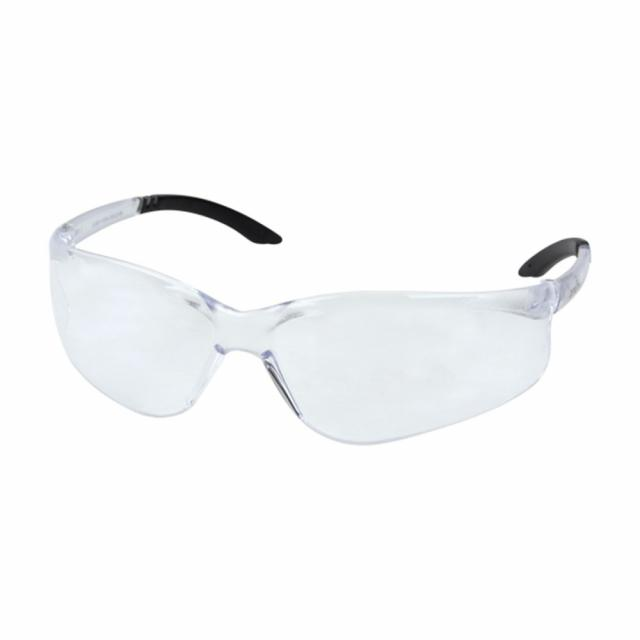Protective Glasses: (33, 174, 611, 475)
